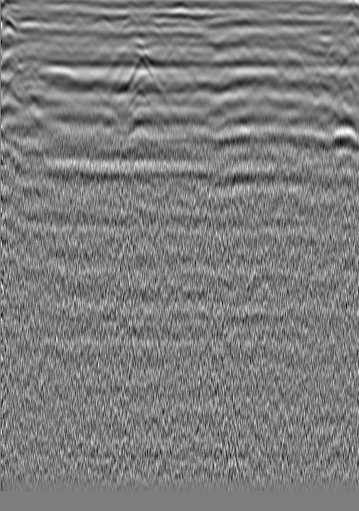가스: (114, 126, 164, 160)
상수: (302, 22, 322, 42)
오수: (49, 11, 69, 31)
우수: (170, 18, 200, 49)
